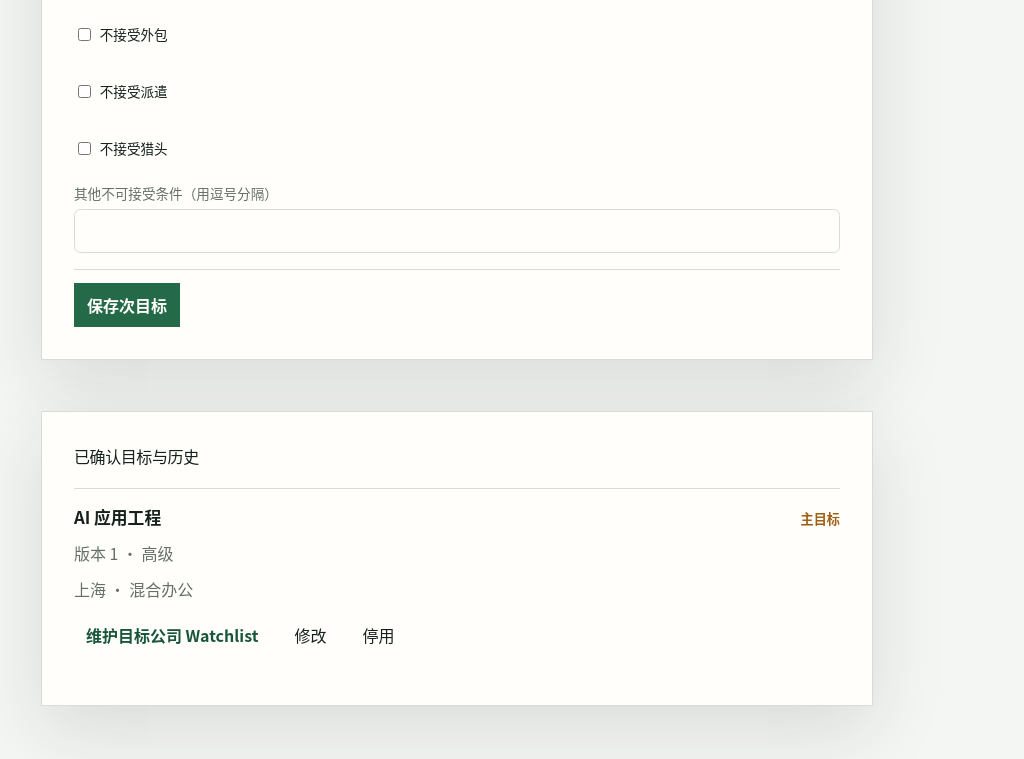
Test: revises and deactivates an existing target using the server-returned versions
The image size is (1024, 759).
(page scrolled)
Click the button with aria-label "修改 AI 应用工程" at (310, 635), box x1=282 y1=613 x2=338 y2=657
(page scrolled)
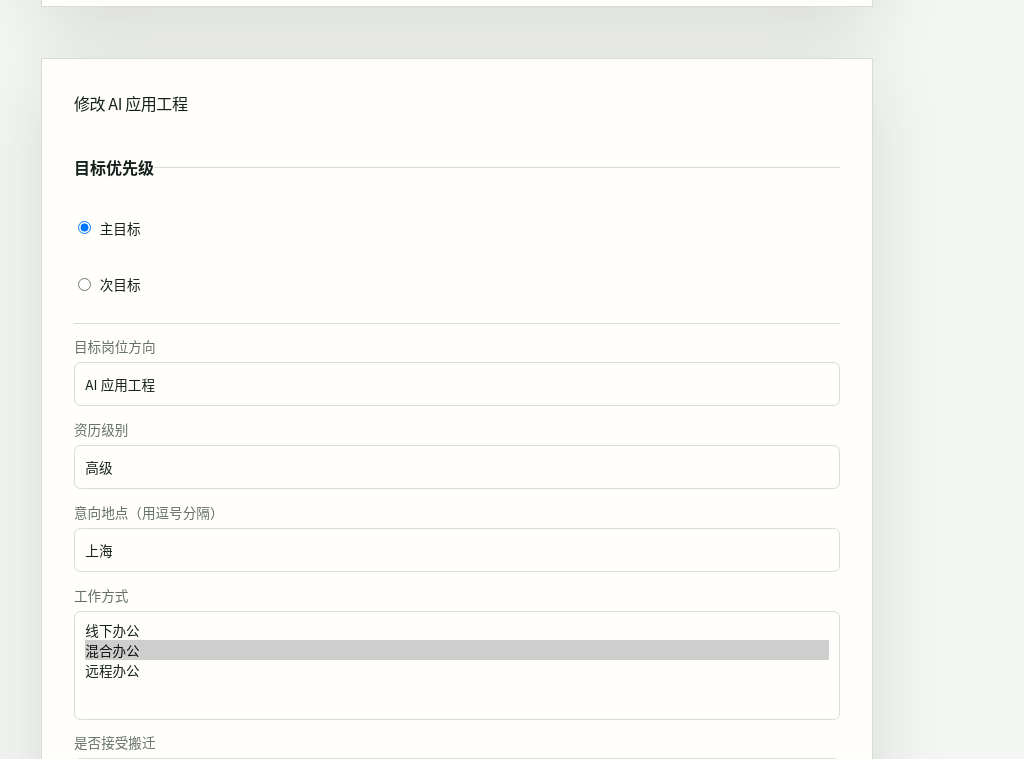
Replace the text in the field labelled "目标岗位方向" with "Agent 工程" at (457, 384), box x1=74 y1=362 x2=840 y2=406
(page scrolled)
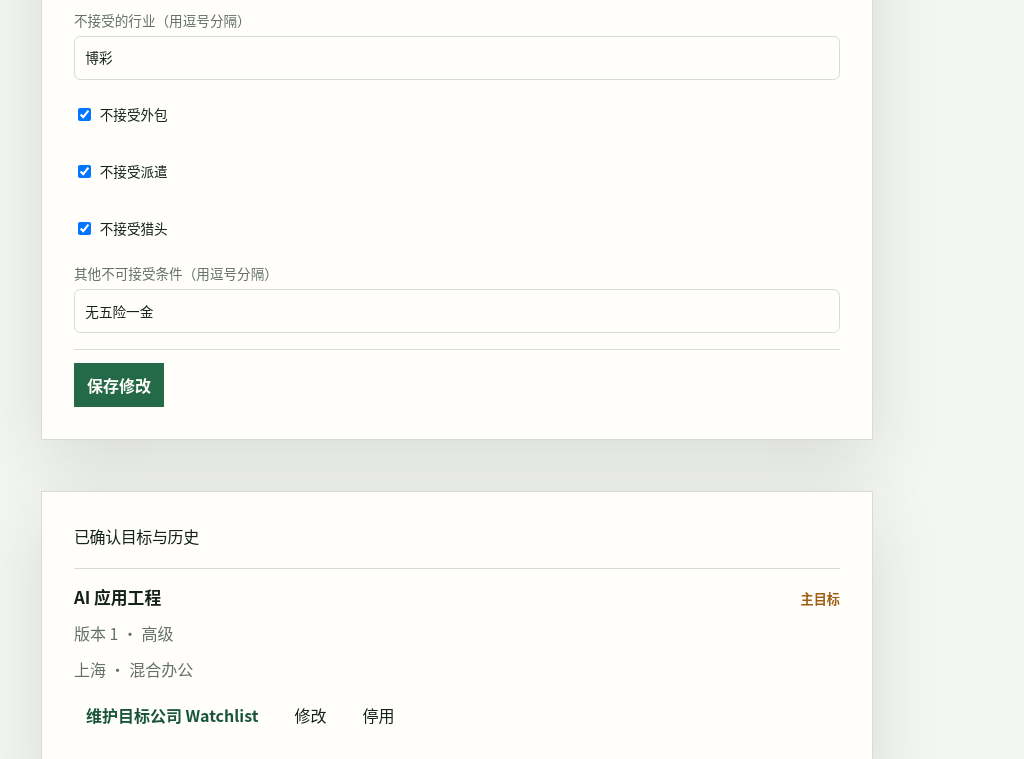
Click the button "保存修改" at (119, 385), box x1=74 y1=363 x2=164 y2=407
(page scrolled)
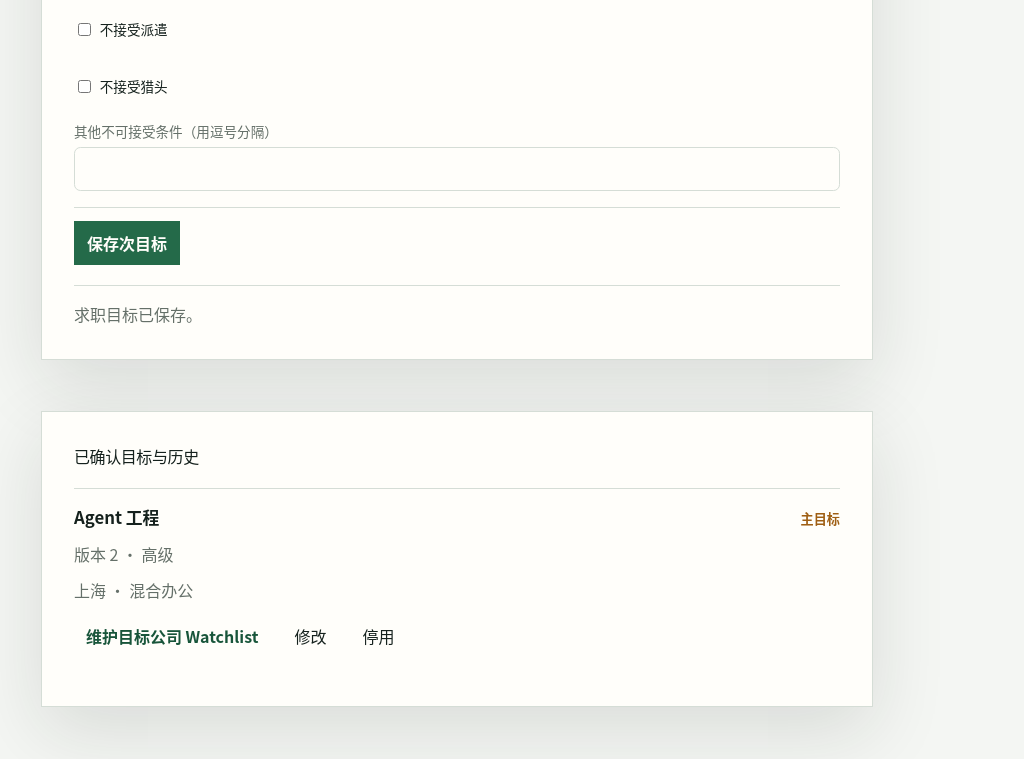
Click the button with aria-label "停用 Agent 工程" at (378, 636), box x1=350 y1=614 x2=406 y2=658
(page scrolled)
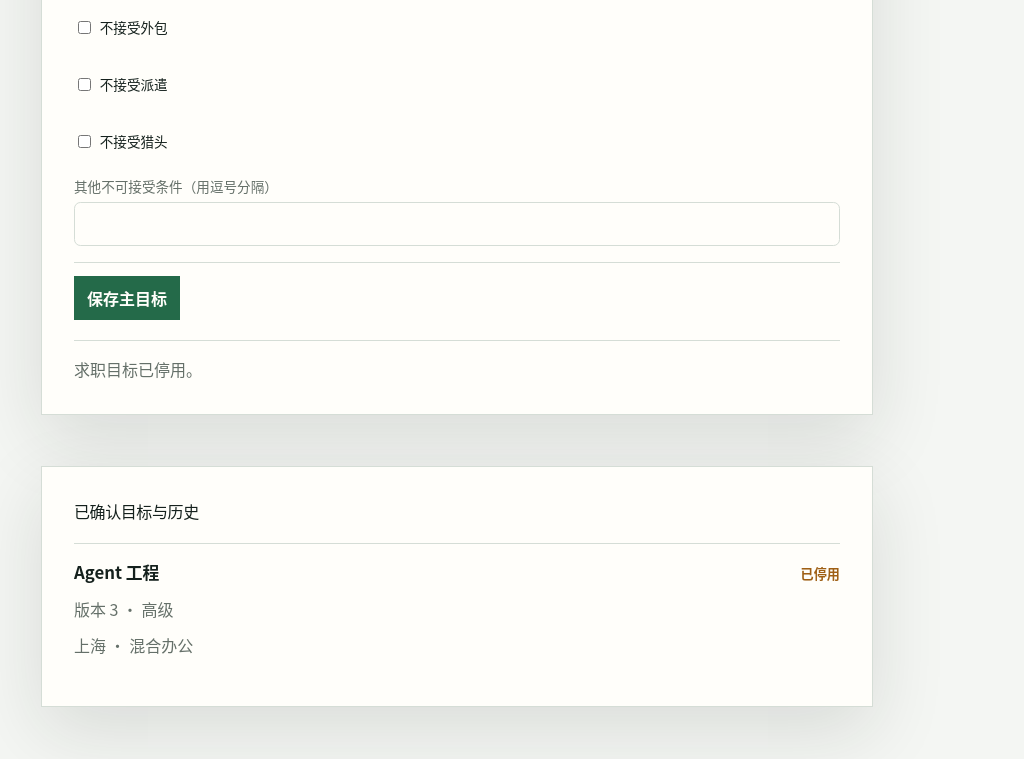
Result: the text "已停用" is shown at x1=801 y1=564 x2=840 y2=584
